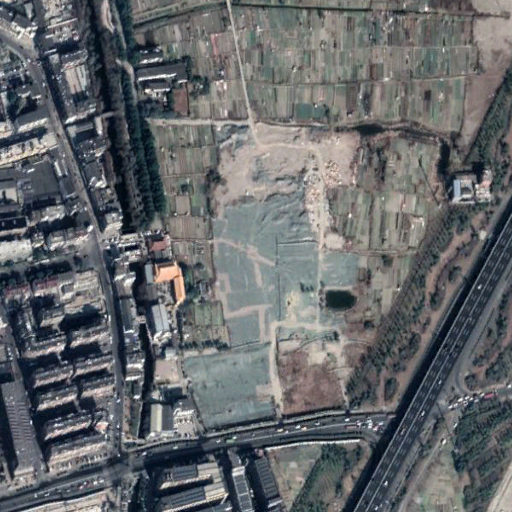cw: (185, 119, 374, 410)
